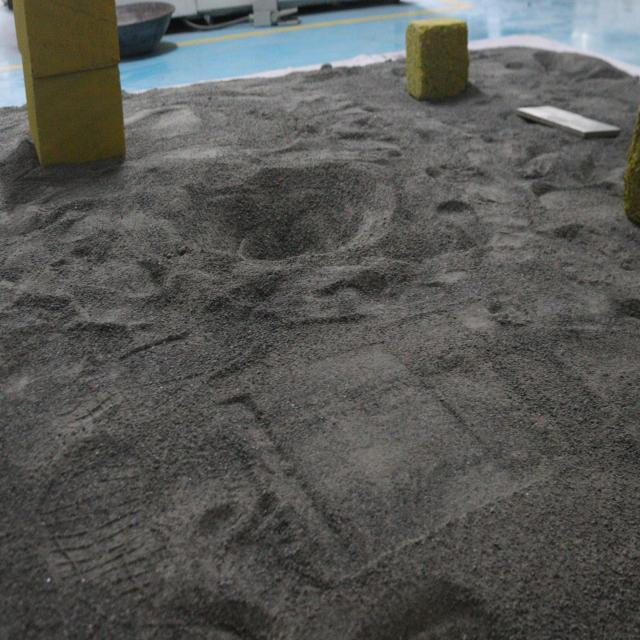box: (5, 0, 136, 169), (409, 18, 472, 105)
crater: (182, 154, 396, 274)
